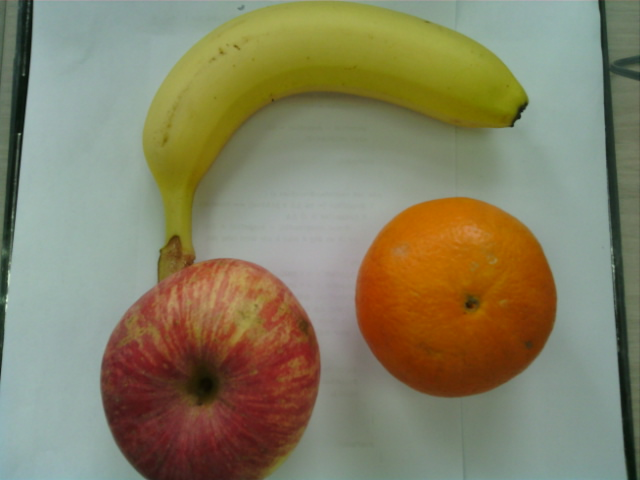normal_apple: (99, 257, 322, 480)
normal_banana: (143, 4, 529, 190)
normal_orange: (356, 201, 560, 402)
